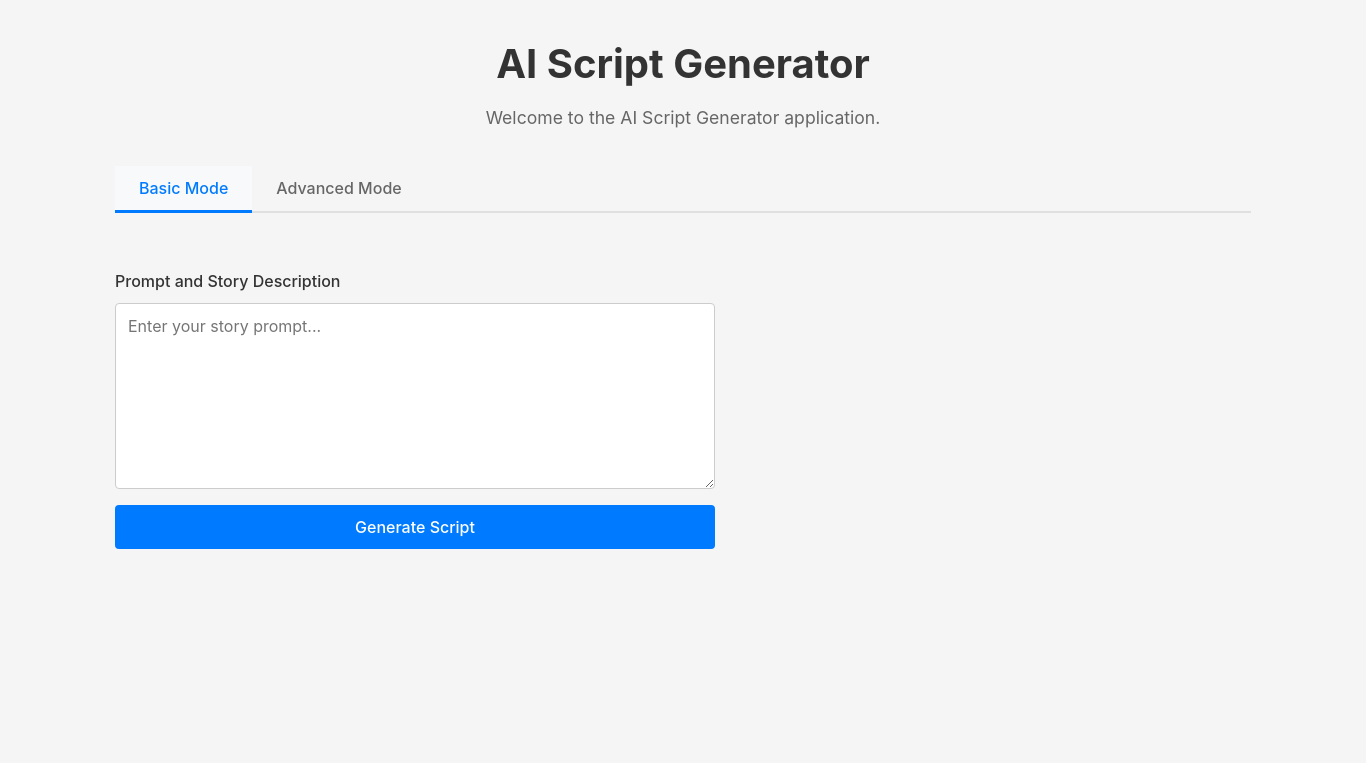
Test: App › preserves basic mode input when switching modes
Type "Test prompt" into the text box labelled "Prompt and Story Description" at point(415, 396), box [115,303,715,489]
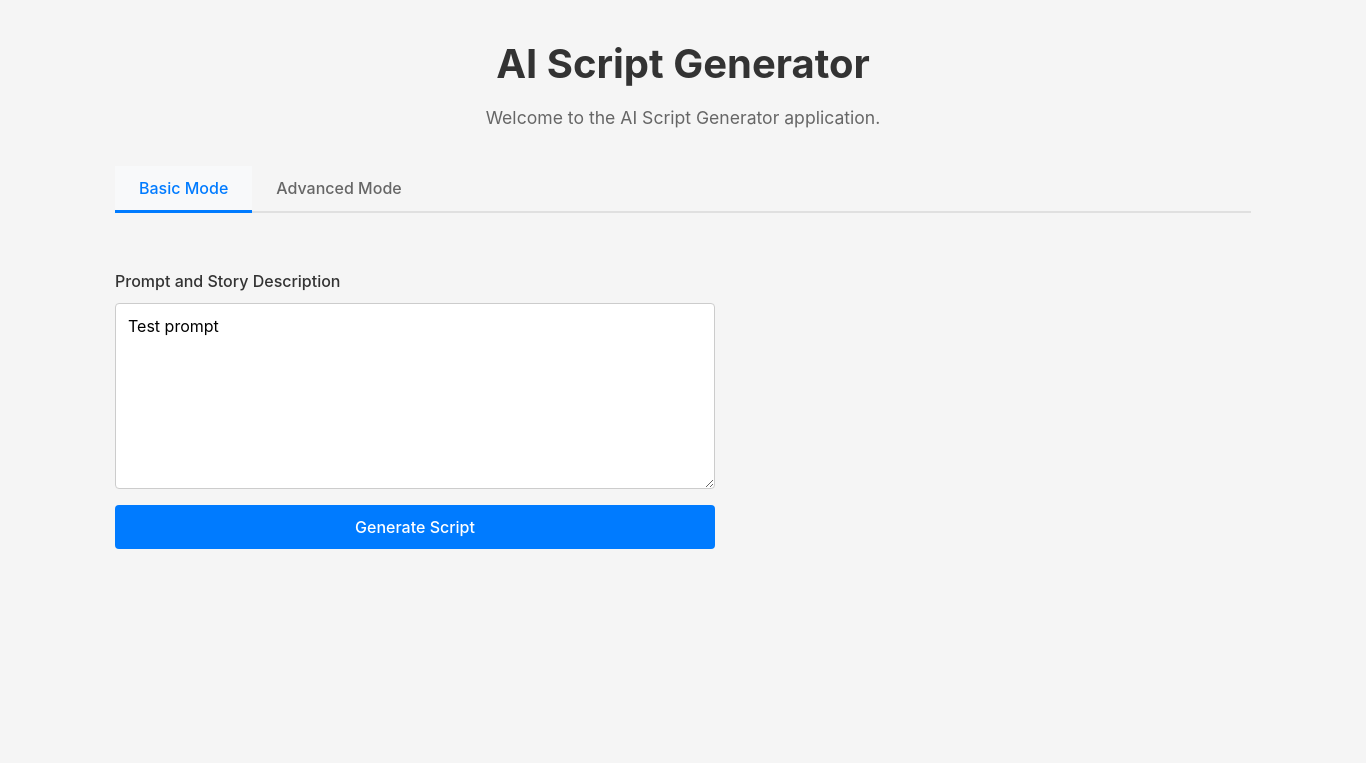
Switch to advanced mode
Click the tab "Advanced Mode" at point(339, 190), box [252,166,426,213]
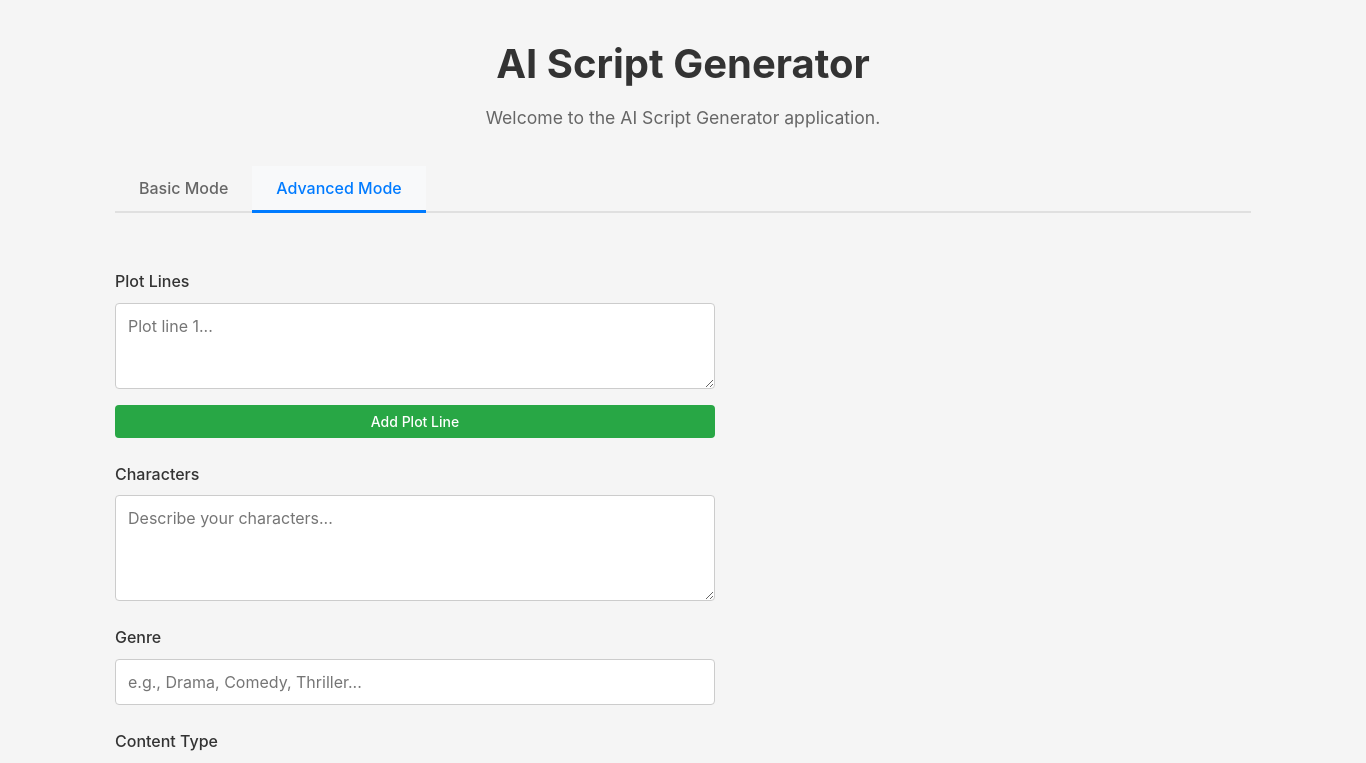
Switch back to basic mode
Click the tab "Basic Mode" at point(184, 190), box [115,166,252,213]
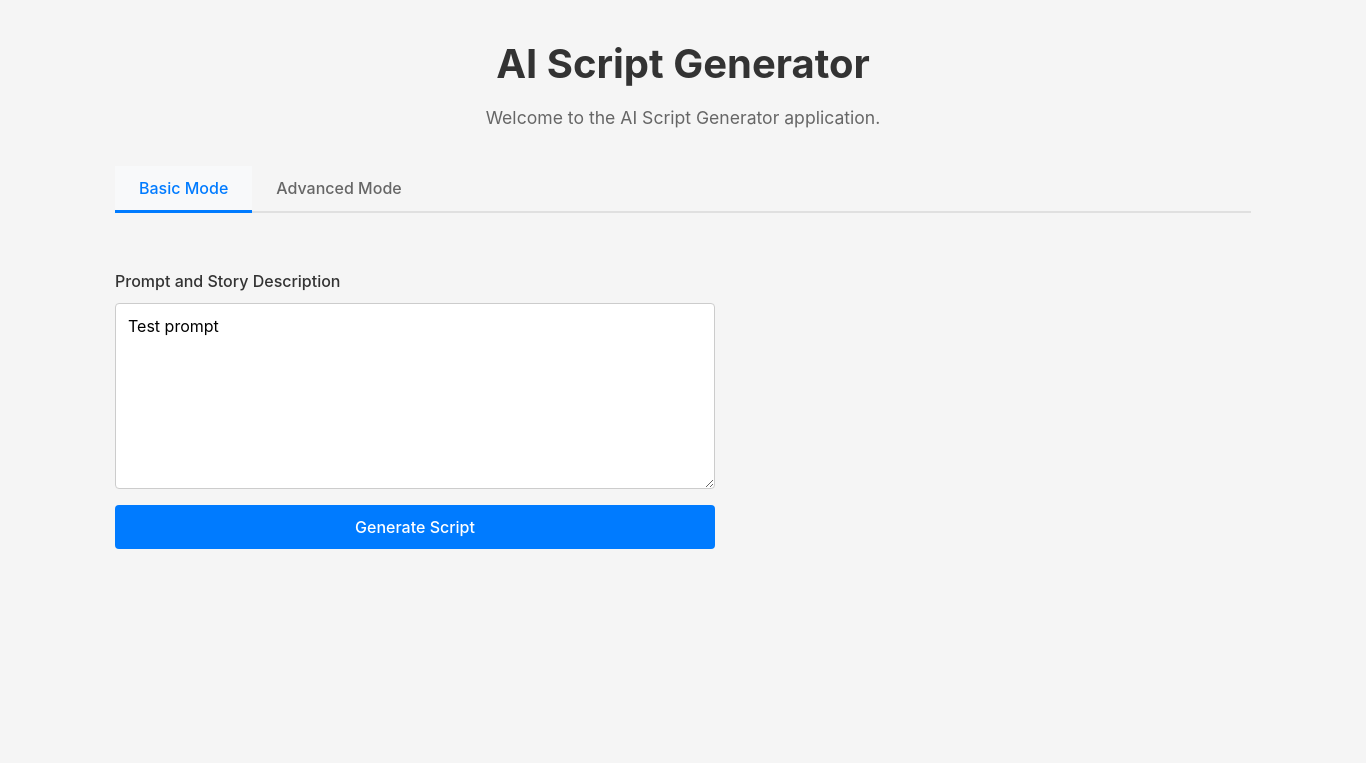
Check: the text box labelled "Prompt and Story Description" holds "Test prompt", box [115,303,715,489]
